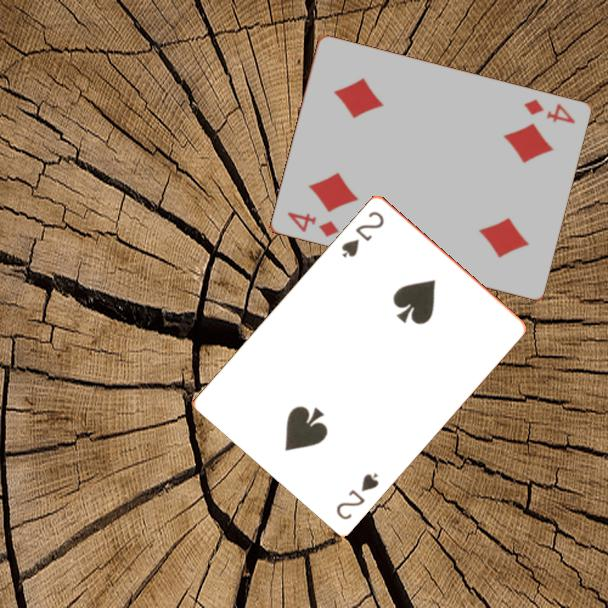d04: (283, 209, 342, 240), (520, 96, 578, 127)
s02: (332, 469, 382, 522), (338, 207, 387, 260)
